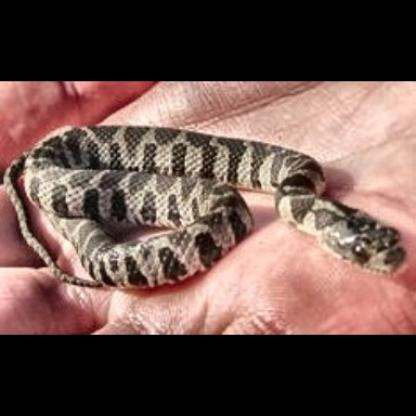Snake: (5, 107, 407, 328)
